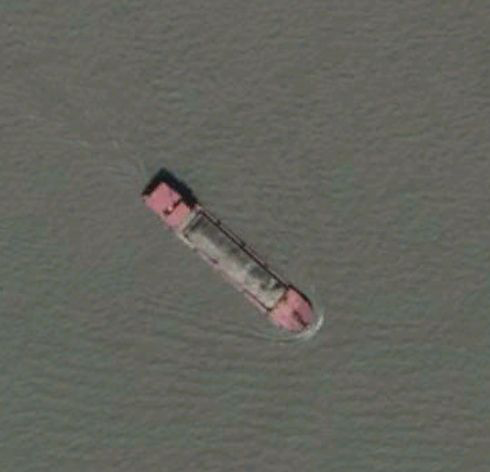boat: (141, 170, 315, 335)
